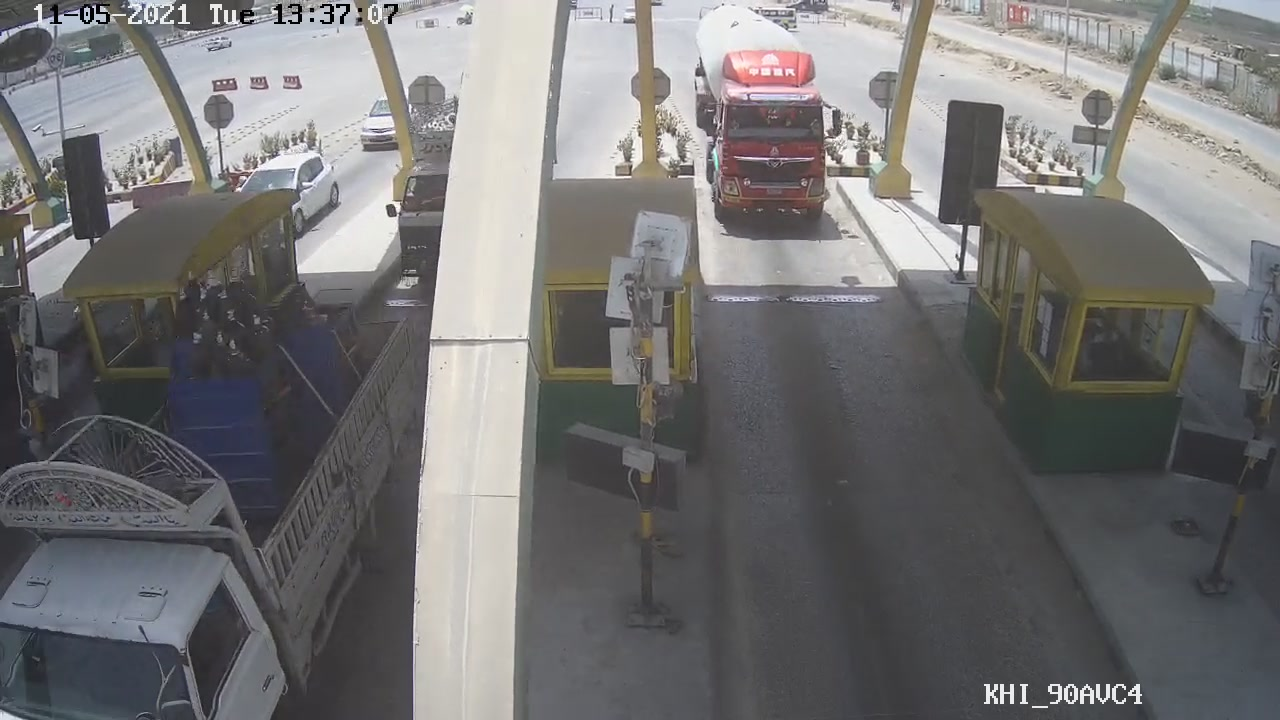F6: (690, 54, 856, 237)
